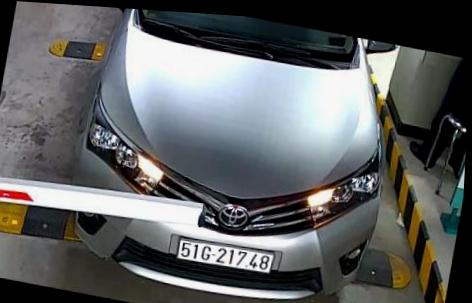License_Plate: (161, 223, 289, 289)
